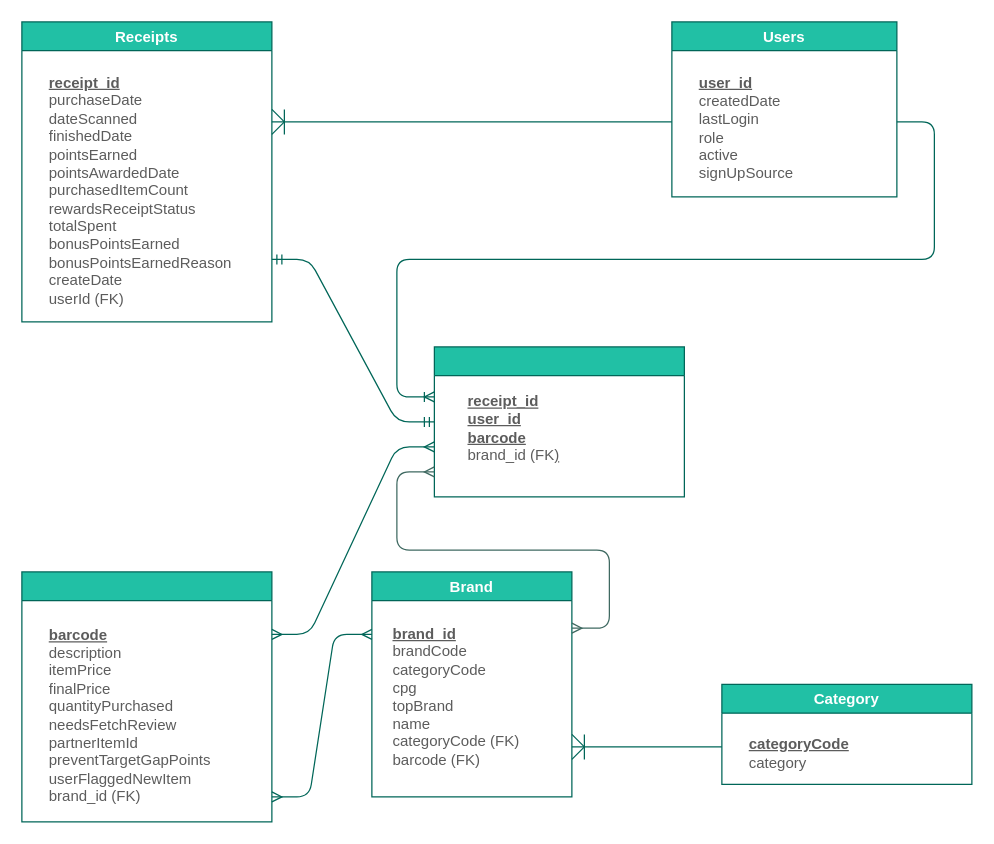
The diagram is 994 pixels wide and 844 high, and some of its shapes have lost their labels. The shapes that lost their labels are listed below. From the top down, each one's box as (x1, y1, x2, y2) in pixels, then its label:
(433, 346, 684, 497): Transaction
(21, 571, 272, 822): Items
